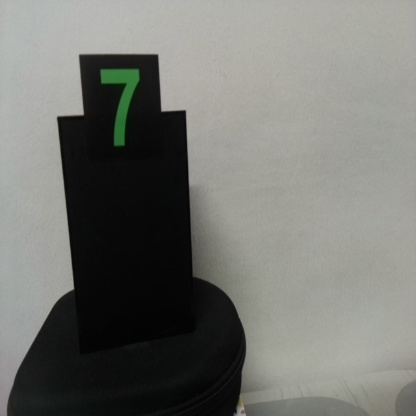id_7: (79, 57, 163, 171)
